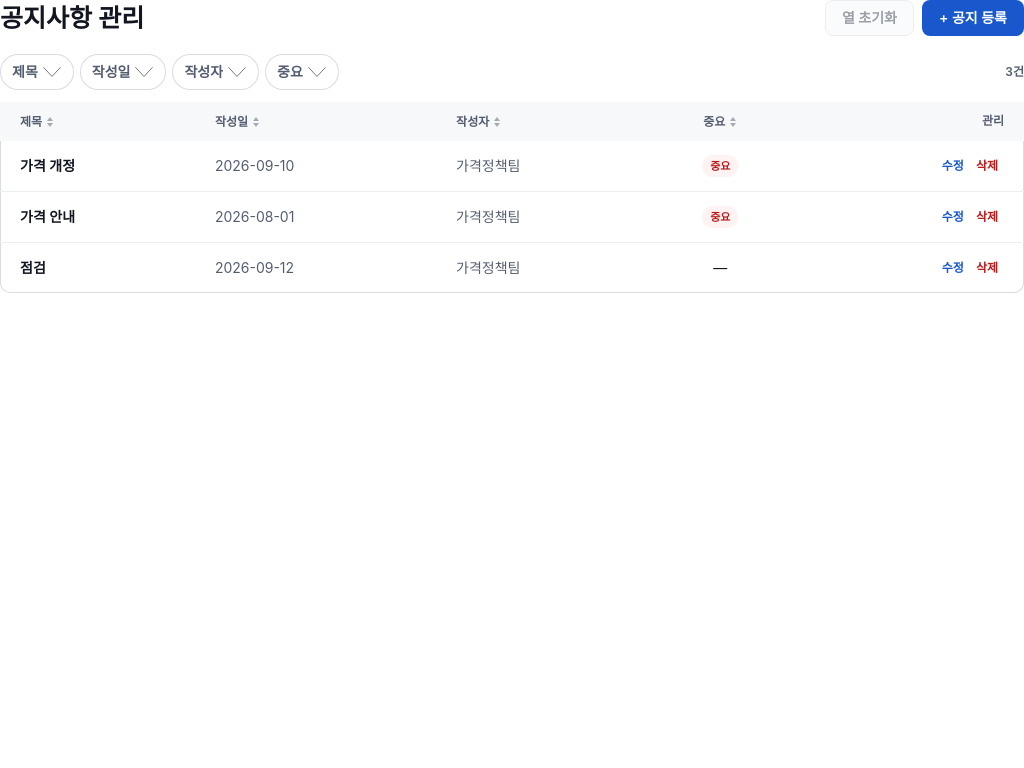
Test: NoticesAdminTable 열 필터 › 중요 + 작성일 기간 → AND, 건수·URL
Step 1. Click the button "중요" in the row of "3건" → (302, 72), box x1=265 y1=54 x2=339 y2=90
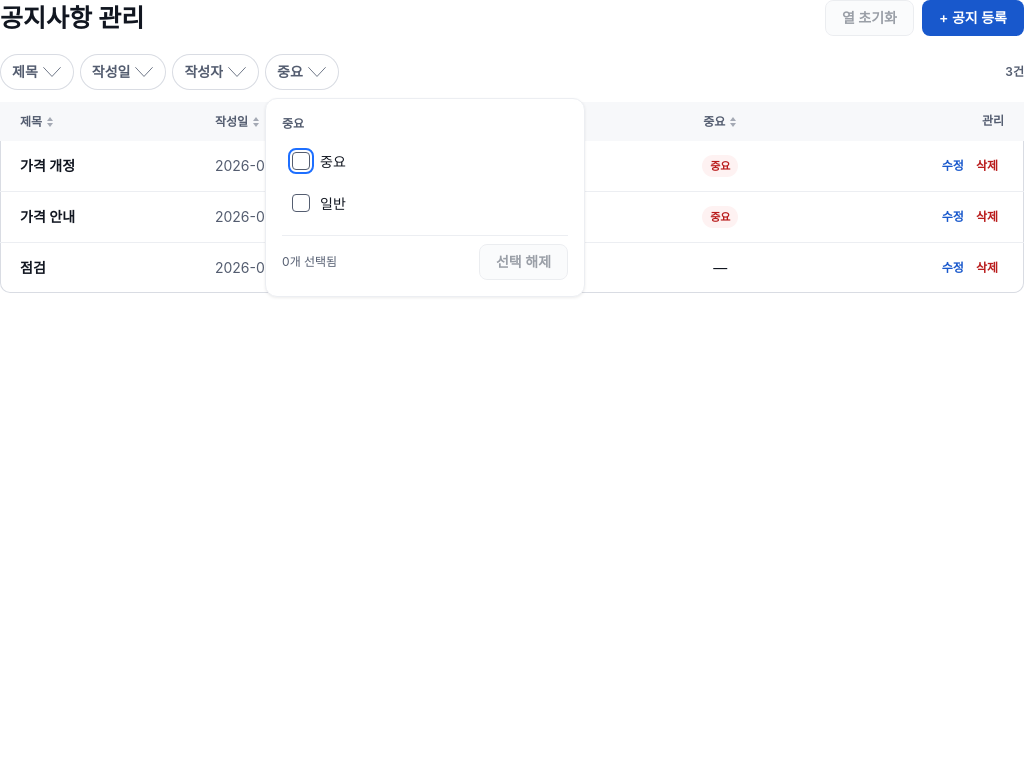
Step 2. Click the checkbox labelled "중요" → (301, 161), box x1=292 y1=152 x2=310 y2=170
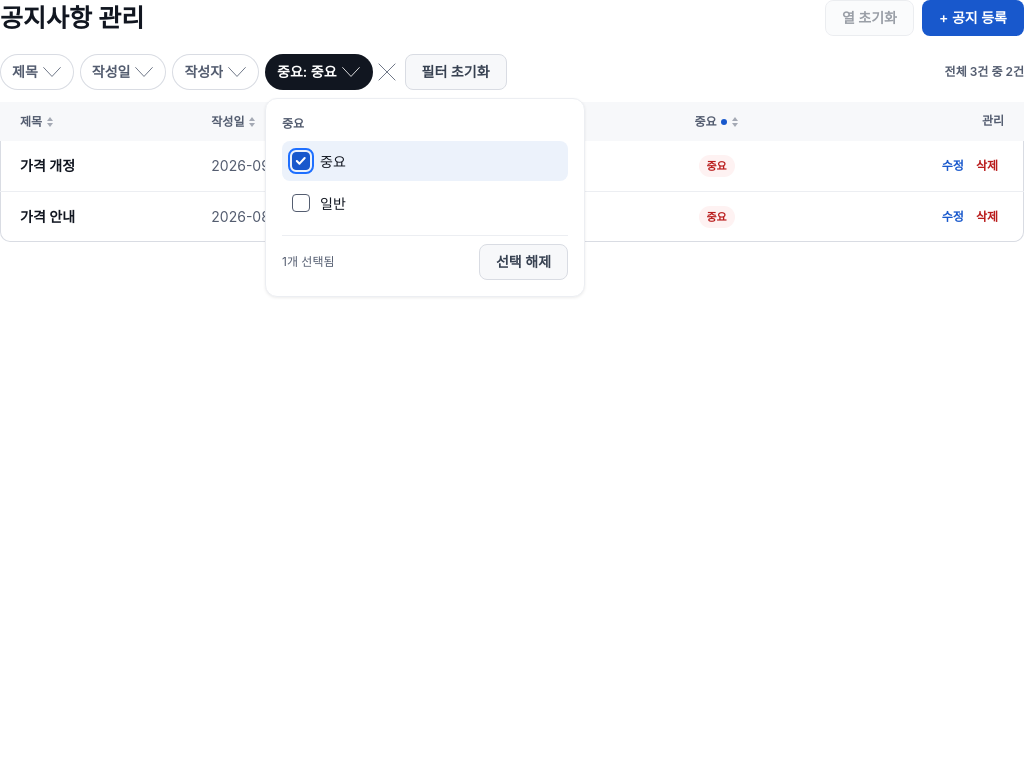
Step 3. Press Escape
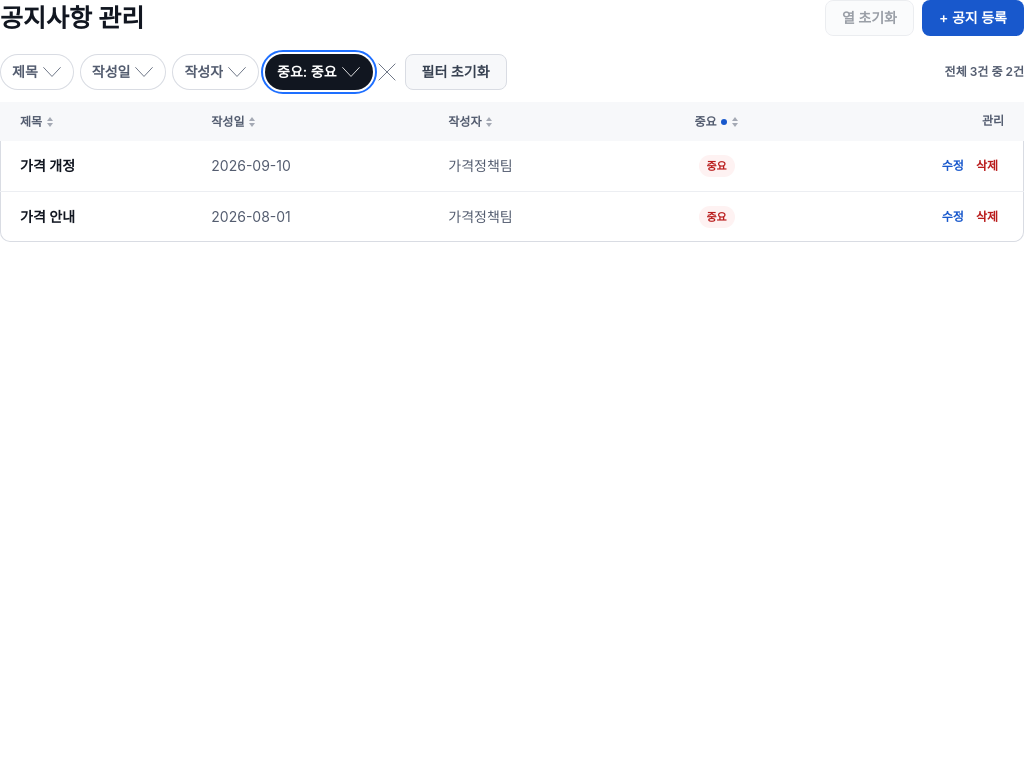
Step 4. Click the button "작성일" in the row of "전체 3건 중 2건" → (123, 72), box x1=80 y1=54 x2=166 y2=90
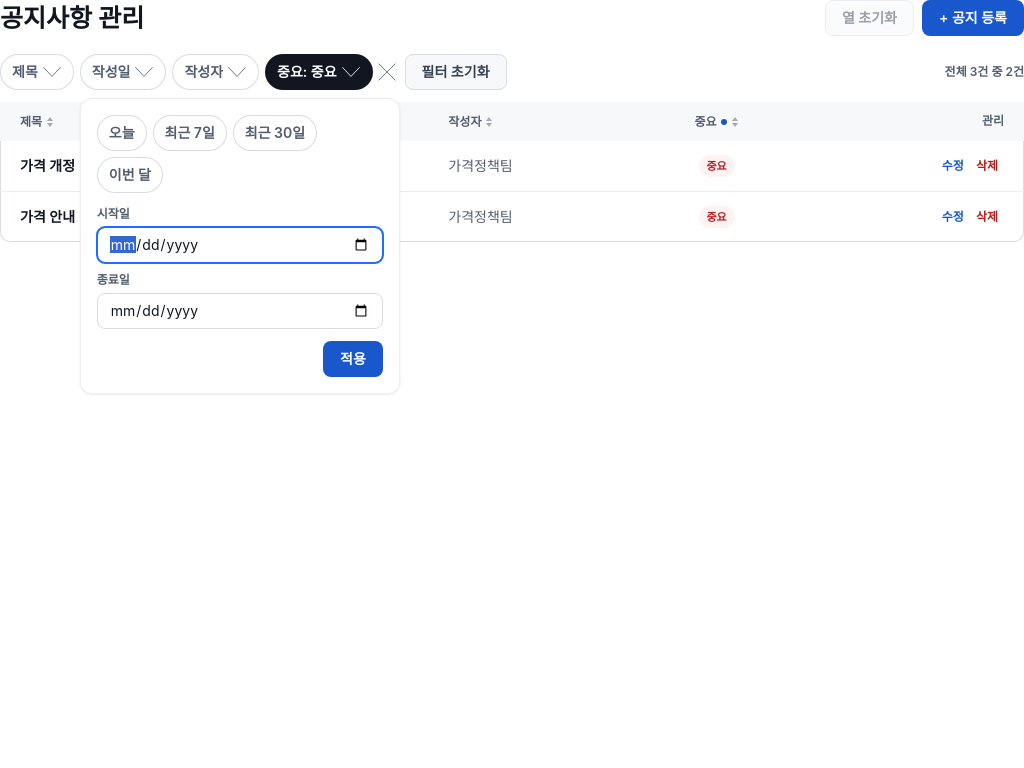
Step 5. Type "2026-09-01" into the date field labelled "시작일" → (240, 245), box x1=97 y1=227 x2=383 y2=263
Step 6. Type "2026-09-30" into the date field labelled "종료일" → (240, 311), box x1=97 y1=293 x2=383 y2=329
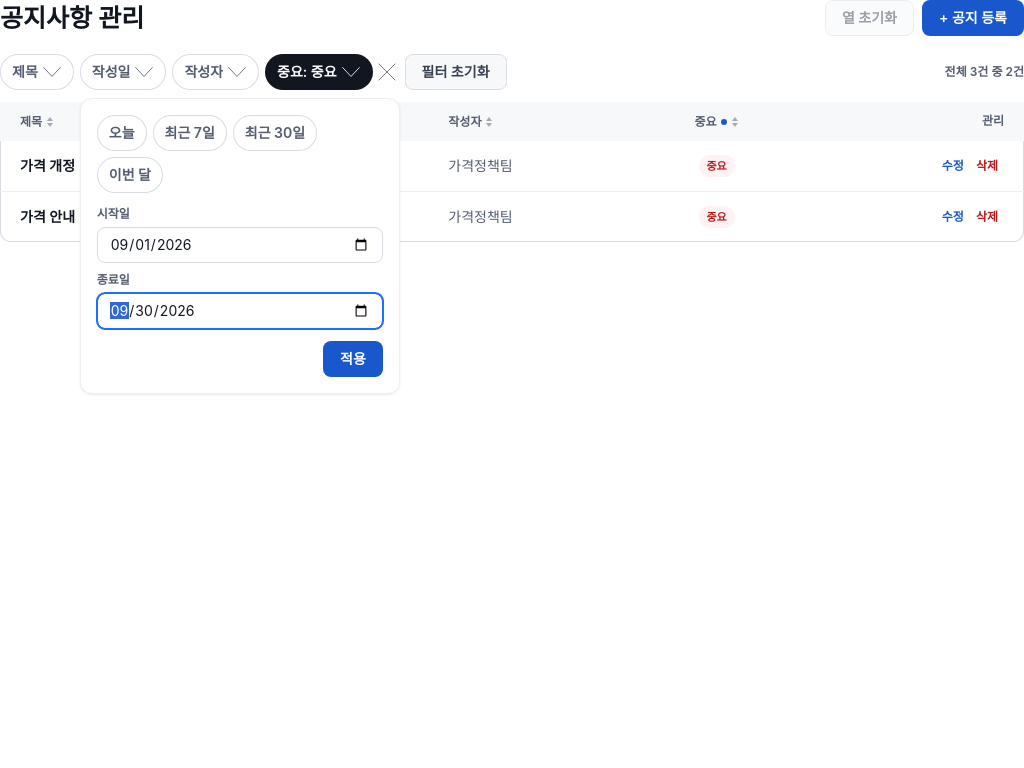
Step 7. Click the button "적용" → (353, 359), box x1=323 y1=341 x2=383 y2=377
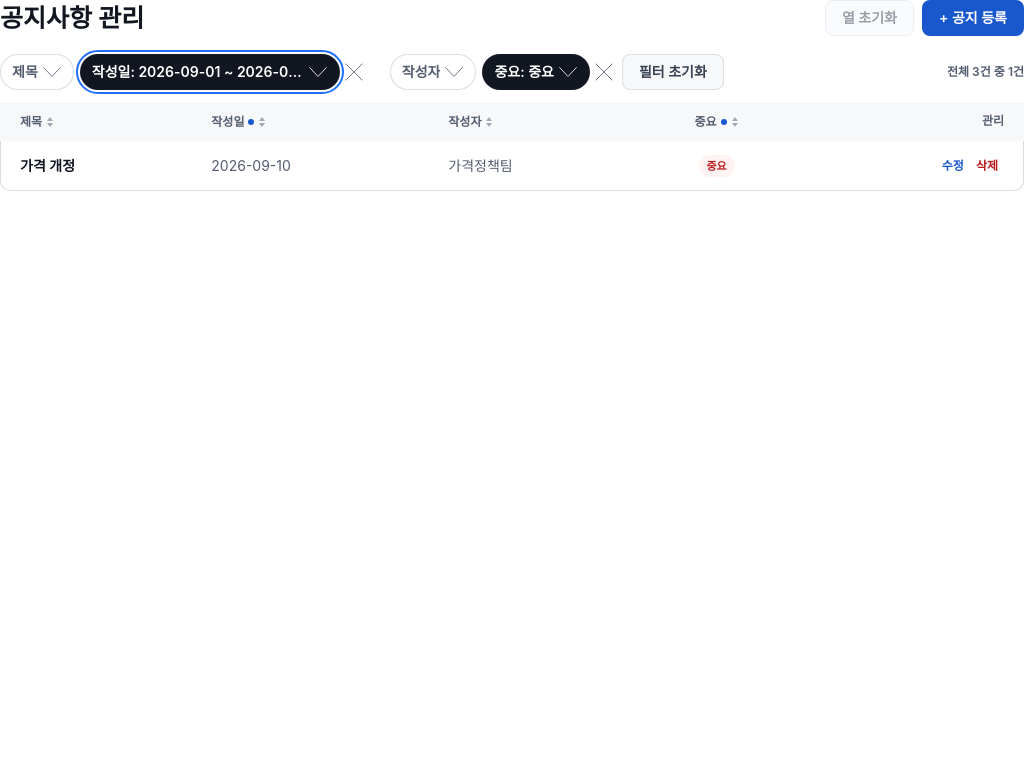
Result: the text "전체 3건 중 1건" is shown at x1=947 y1=63 x2=1023 y2=81
